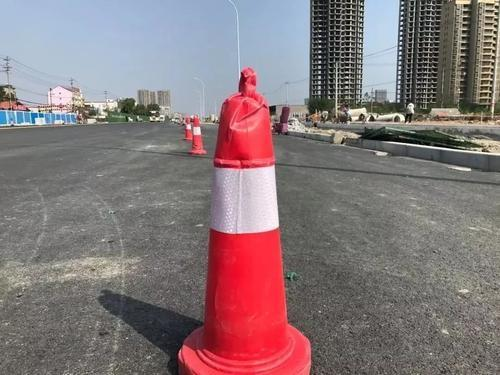cone_barrel: (184, 67, 310, 374), (189, 113, 204, 152), (183, 115, 191, 139)
